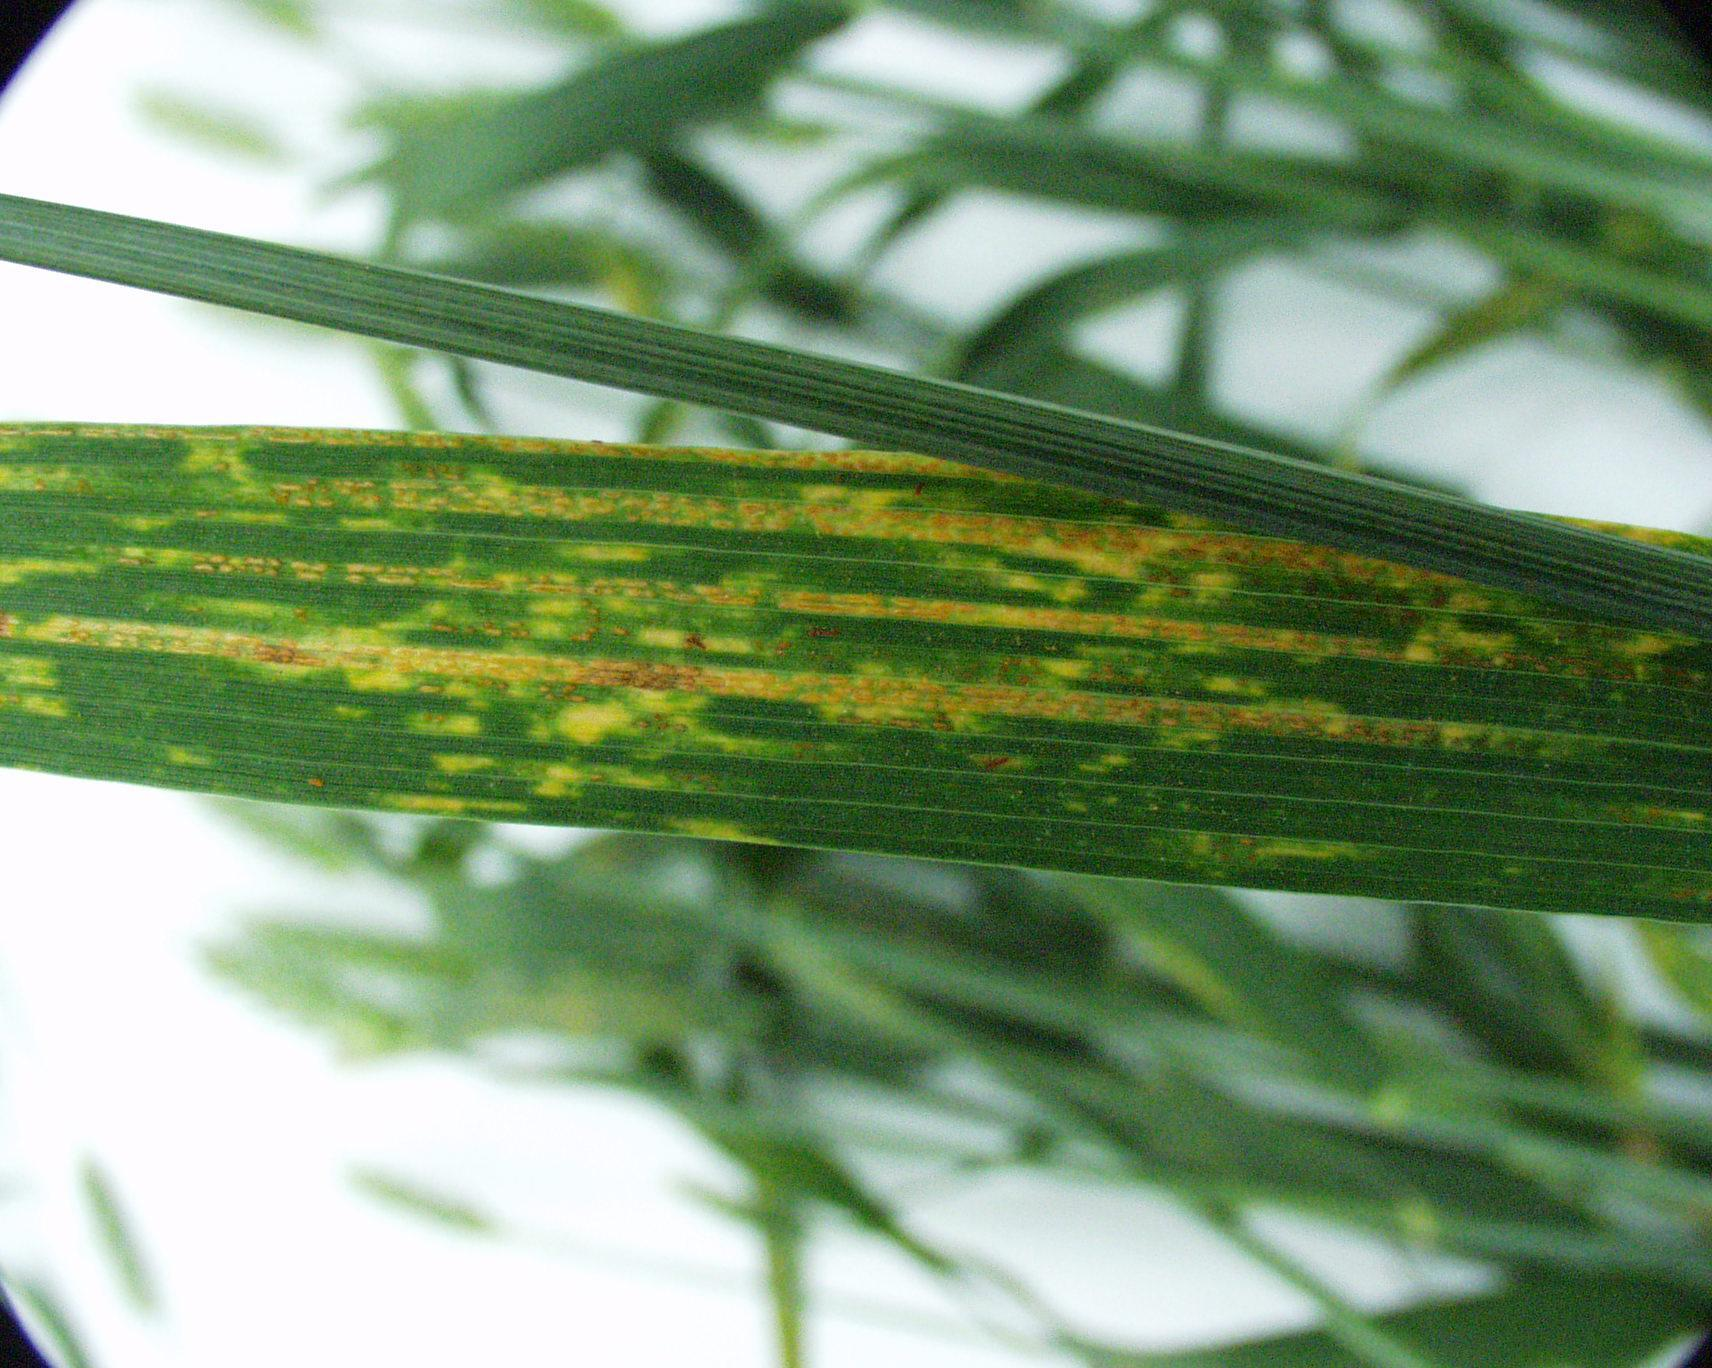Corn_Common_Rust: (0, 363, 1712, 912)
